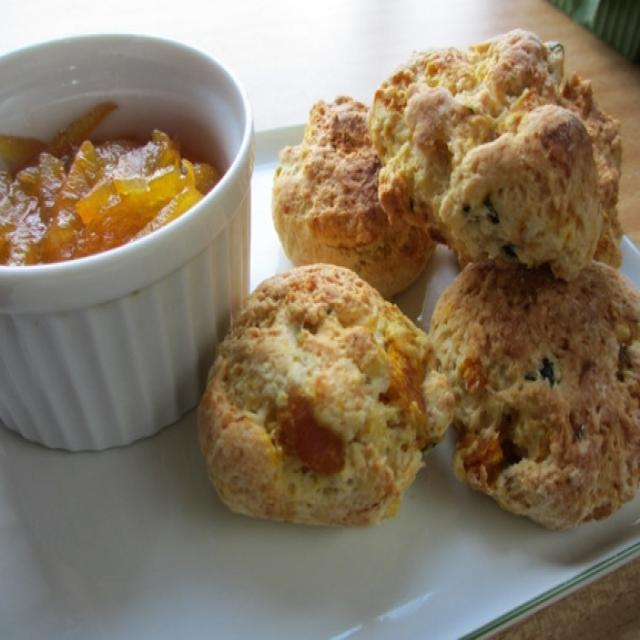面包点心: (10, 4, 633, 604)
